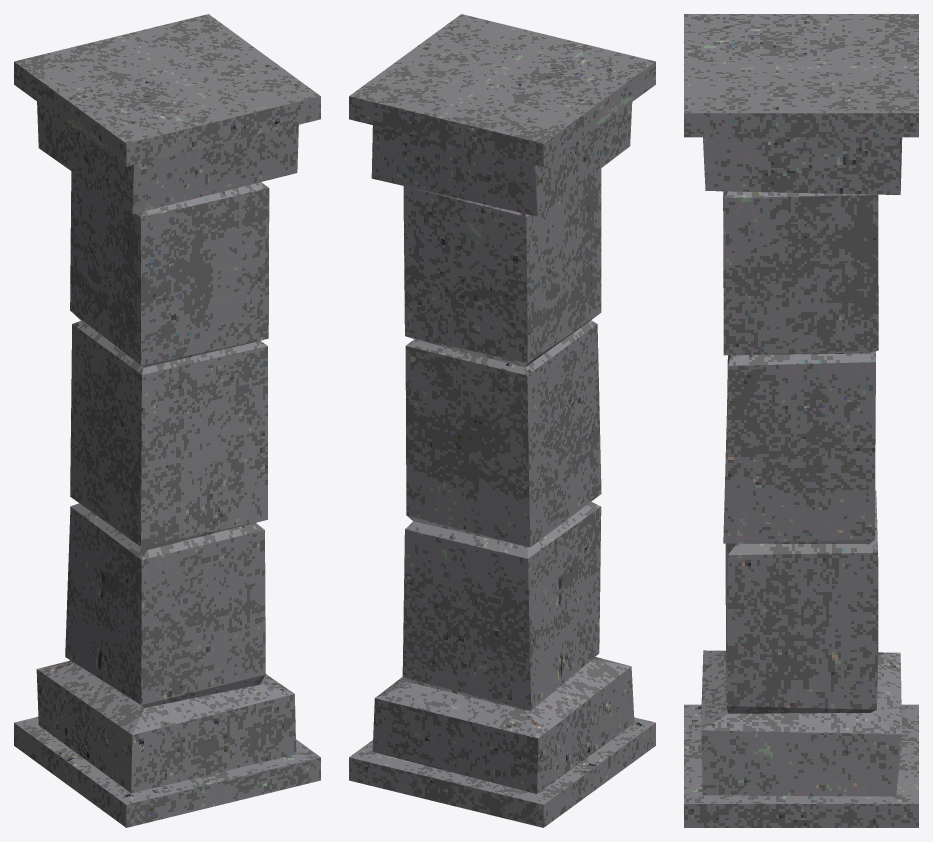
Rendered from PSXPillar.glb.
3 renders of one model, left to right at view 1: azimuth 30°, elevation 25°; view 2: azimuth 150°, elevation 25°; view 3: azimuth 270°, elevation 25°, orthographic. The views are drawn at different scales.
Parts seen in each view (by area): view 1: BasePillar; view 2: BasePillar; view 3: BasePillar.
Part boxes in pixels (x1,y1,x2,y2): BasePillar: [14, 14, 320, 827]; BasePillar: [349, 14, 655, 827]; BasePillar: [684, 14, 918, 827].
Size of the model in its own units: 0.8931 by 3 by 0.8931.
1 material, 1 textured.
